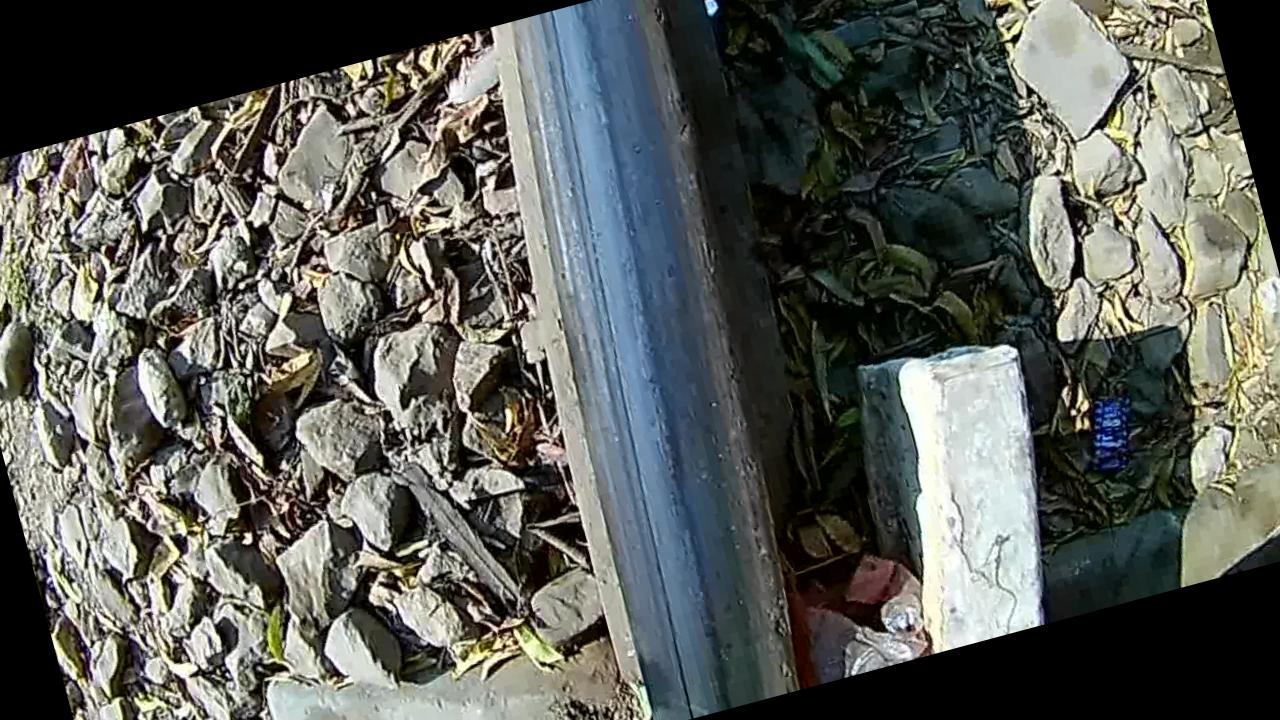clip_missing: (464, 0, 852, 720)
